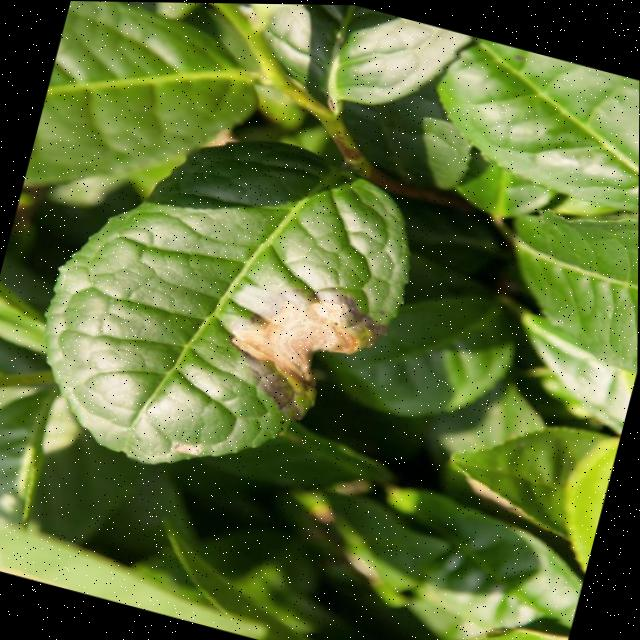Tea cloud leaf blight: (215, 261, 393, 422)
